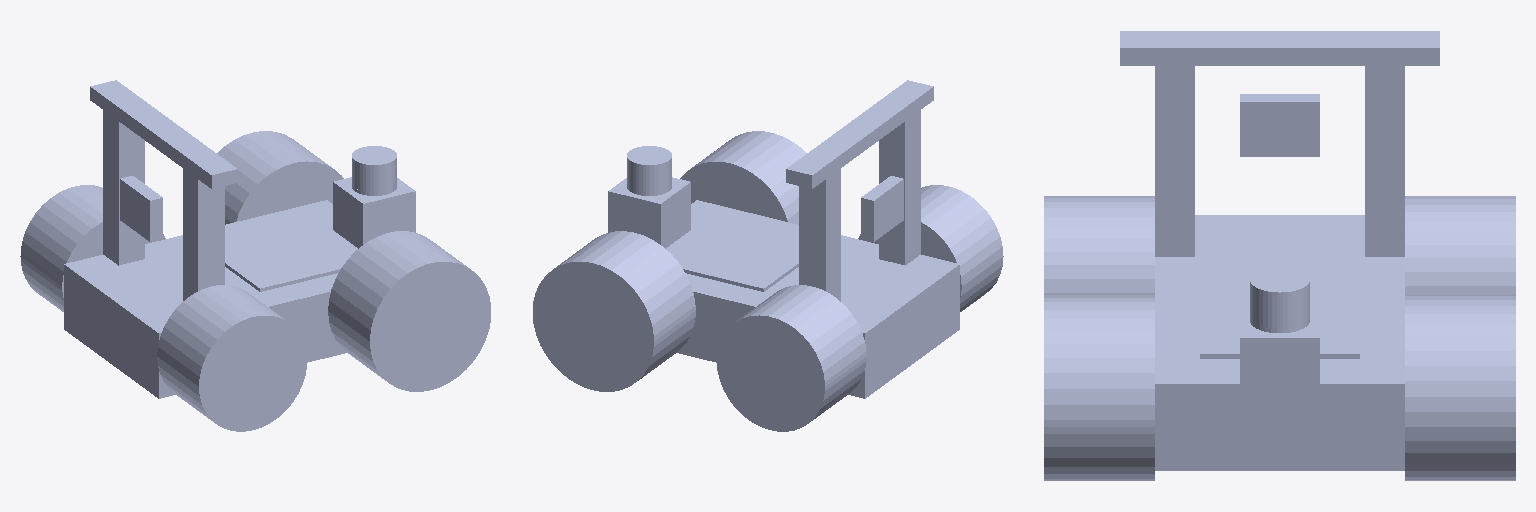
The robot description file, URDF, robot "jr_description":
<robot
  name="jr_description">
  <link
    name="base_link">
    <inertial>
      <origin
        xyz="-0.10028 8.8908E-18 -0.0063661"
        rpy="0 0 0" />
      <mass
        value="2.6045" />
      <inertia
        ixx="0.0083822"
        ixy="2.649E-18"
        ixz="-0.0011858"
        iyy="0.01652"
        iyz="-6.143E-19"
        izz="0.019903" />
    </inertial>
    <visual>
      <origin
        xyz="0 0 0"
        rpy="0 0 0" />
      <geometry>
        <mesh
          filename="package://jr_description/meshes/base_link.STL" />
      </geometry>
      <material
        name="">
        <color
          rgba="0.79216 0.81961 0.93333 1" />
      </material>
    </visual>
    <collision>
      <origin
        xyz="0 0 0"
        rpy="0 0 0" />
      <geometry>
        <mesh
          filename="package://jr_description/meshes/base_link.STL" />
      </geometry>
    </collision>
  </link>
  <link
    name="arm_base">
    <inertial>
      <origin
        xyz="-0.0254 1.43687145515159E-18 -0.0015875"
        rpy="0 0 0" />
      <mass
        value="0.032774128" />
      <inertia
        ixx="2.82202738684791E-05"
        ixy="4.12183567632782E-38"
        ixz="0"
        iyy="2.82202738684791E-05"
        iyz="0"
        izz="5.63854837879466E-05" />
    </inertial>
    <visual>
      <origin
        xyz="0 0 0"
        rpy="0 0 0" />
      <geometry>
        <mesh
          filename="package://jr_description/meshes/arm_base.STL" />
      </geometry>
      <material
        name="">
        <color
          rgba="0.792156862745098 0.819607843137255 0.933333333333333 1" />
      </material>
    </visual>
    <collision>
      <origin
        xyz="0 0 0"
        rpy="0 0 0" />
      <geometry>
        <mesh
          filename="package://jr_description/meshes/arm_base.STL" />
      </geometry>
    </collision>
  </link>
  <joint
    name="base_link_to_arm_base_joint"
    type="fixed">
    <origin
      xyz="-0.03175 0 0.020574"
      rpy="0 -1.5407E-33 1.5232E-16" />
    <parent
      link="base_link" />
    <child
      link="arm_base" />
    <axis
      xyz="0 0 0" />
  </joint>
  <link
    name="kinect_base">
    <inertial>
      <origin
        xyz="0 -2.02645682143E-17 0"
        rpy="0 0 0" />
      <mass
        value="0.0655482560000002" />
      <inertia
        ixx="0.000226422958335974"
        ixy="-5.87174898103748E-21"
        ixz="-9.30344764534043E-22"
        iyy="4.40511592093335E-06"
        iyz="-5.97297429508228E-21"
        izz="0.000229066027888534" />
    </inertial>
    <visual>
      <origin
        xyz="0 0 0"
        rpy="0 0 0" />
      <geometry>
        <mesh
          filename="package://jr_description/meshes/kinect_base.STL" />
      </geometry>
      <material
        name="">
        <color
          rgba="0.792156862745098 0.819607843137255 0.933333333333333 1" />
      </material>
    </visual>
    <collision>
      <origin
        xyz="0 0 0"
        rpy="0 0 0" />
      <geometry>
        <mesh
          filename="package://jr_description/meshes/kinect_base.STL" />
      </geometry>
    </collision>
  </link>
  <joint
    name="base_link_to_kinect_base_joint"
    type="fixed">
    <origin
      xyz="-0.17145 0 0.1571"
      rpy="1.6653E-16 -1.1584E-16 1.0229E-16" />
    <parent
      link="base_link" />
    <child
      link="kinect_base" />
    <axis
      xyz="0 0 0" />
  </joint>
  <link
    name="front_left_wheel">
    <inertial>
      <origin
        xyz="0 0 -1.73472347597681E-18"
        rpy="0 0 0" />
      <mass
        value="0.757089458454383" />
      <inertia
        ixx="0.000960828806967541"
        ixy="-4.65183370141717E-20"
        ixz="-7.52316384526264E-36"
        iyy="0.00130601486354979"
        iyz="2.1696133823104E-36"
        izz="0.000960828806967541" />
    </inertial>
    <visual>
      <origin
        xyz="0 0 0"
        rpy="0 0 0" />
      <geometry>
        <mesh
          filename="package://jr_description/meshes/front_left_wheel.STL" />
      </geometry>
      <material
        name="">
        <color
          rgba="0.792156862745098 0.819607843137255 0.933333333333333 1" />
      </material>
    </visual>
    <collision>
      <origin
        xyz="0 0 0"
        rpy="0 0 0" />
      <geometry>
        <mesh
          filename="package://jr_description/meshes/front_left_wheel.STL" />
      </geometry>
    </collision>
  </link>
  <joint
    name="base_link_to_front_left_wheel_joint"
    type="continuous">
    <origin
      xyz="0 0.1143 0"
      rpy="-1.6185E-33 4.5241E-18 2.4652E-32" />
    <parent
      link="base_link" />
    <child
      link="front_left_wheel" />
    <axis
      xyz="0 1 0" />
  </joint>
  <link
    name="front_right_wheel">
    <inertial>
      <origin
        xyz="0 -1.38777878078145E-17 -1.73472347597681E-18"
        rpy="0 0 0" />
      <mass
        value="0.757089458454383" />
      <inertia
        ixx="0.000960828806967541"
        ixy="-4.38718486817743E-21"
        ixz="-4.56924239365896E-37"
        iyy="0.00130601486354979"
        iyz="8.85585047159997E-22"
        izz="0.000960828806967541" />
    </inertial>
    <visual>
      <origin
        xyz="0 0 0"
        rpy="0 0 0" />
      <geometry>
        <mesh
          filename="package://jr_description/meshes/front_right_wheel.STL" />
      </geometry>
      <material
        name="">
        <color
          rgba="0.792156862745098 0.819607843137255 0.933333333333333 1" />
      </material>
    </visual>
    <collision>
      <origin
        xyz="0 0 0"
        rpy="0 0 0" />
      <geometry>
        <mesh
          filename="package://jr_description/meshes/front_right_wheel.STL" />
      </geometry>
    </collision>
  </link>
  <joint
    name="base_link_to_front_right_wheel_joint"
    type="continuous">
    <origin
      xyz="0 -0.1143 0"
      rpy="-4.79490768851316E-18 -2.41087784164084E-33 -2.91484050545616E-17" />
    <parent
      link="base_link" />
    <child
      link="front_right_wheel" />
    <axis
      xyz="0 1 0" />
  </joint>
  <link
    name="rear_left_wheel">
    <inertial>
      <origin
        xyz="1.3878E-17 -2.7756E-17 0"
        rpy="0 0 0" />
      <mass
        value="0.60224" />
      <inertia
        ixx="0.00065807"
        ixy="-4.1642E-20"
        ixz="-2.4074E-35"
        iyy="0.00082641"
        iyz="-8.8453E-21"
        izz="0.00065807" />
    </inertial>
    <visual>
      <origin
        xyz="0 0 0"
        rpy="0 0 0" />
      <geometry>
        <mesh
          filename="package://jr_description/meshes/rear_left_wheel.STL" />
      </geometry>
      <material
        name="">
        <color
          rgba="0.79216 0.81961 0.93333 1" />
      </material>
    </visual>
    <collision>
      <origin
        xyz="0 0 0"
        rpy="0 0 0" />
      <geometry>
        <mesh
          filename="package://jr_description/meshes/rear_left_wheel.STL" />
      </geometry>
    </collision>
  </link>
  <joint
    name="base_link_to_rear_left_wheel_joint"
    type="continuous">
    <origin
      xyz="-0.17145 0.1143 -0.00323850000000001"
      rpy="-5.25433558435984E-17 -1.07552855510562E-16 0" />
    <parent
      link="base_link" />
    <child
      link="rear_left_wheel" />
    <axis
      xyz="0 1 0" />
  </joint>
  <link
    name="rear_right_wheel">
    <inertial>
      <origin
        xyz="0 2.7756E-17 -1.7347E-18"
        rpy="0 0 0" />
      <mass
        value="0.60224" />
      <inertia
        ixx="0.00065807"
        ixy="-3.0008E-20"
        ixz="-2.4074E-35"
        iyy="0.00082641"
        iyz="-4.7922E-21"
        izz="0.00065807" />
    </inertial>
    <visual>
      <origin
        xyz="0 0 0"
        rpy="0 0 0" />
      <geometry>
        <mesh
          filename="package://jr_description/meshes/rear_right_wheel.STL" />
      </geometry>
      <material
        name="">
        <color
          rgba="0.79216 0.81961 0.93333 1" />
      </material>
    </visual>
    <collision>
      <origin
        xyz="0 0 0"
        rpy="0 0 0" />
      <geometry>
        <mesh
          filename="package://jr_description/meshes/rear_right_wheel.STL" />
      </geometry>
    </collision>
  </link>
  <joint
    name="base_link_to_rear_right_wheel_joint"
    type="continuous">
    <origin
      xyz="-0.17145 -0.1143 -0.00323849999999998"
      rpy="-2.84666251601602E-17 -1.66533453693773E-16 0" />
    <parent
      link="base_link" />
    <child
      link="rear_right_wheel" />
    <axis
      xyz="0 1 0" />
  </joint>
  <link
    name="laser">
    <inertial>
      <origin
        xyz="0 -1.0618E-17 -0.030024"
        rpy="0 0 0" />
      <mass
        value="0.14729" />
      <inertia
        ixx="8.2553E-05"
        ixy="5.2628E-21"
        ixz="-1.2749E-21"
        iyy="8.2553E-05"
        iyz="1.0852E-20"
        izz="5.5249E-05" />
    </inertial>
    <visual>
      <origin
        xyz="0 0 0"
        rpy="0 0 0" />
      <geometry>
        <mesh
          filename="package://jr_description/meshes/laser.STL" />
      </geometry>
      <material
        name="">
        <color
          rgba="0.79216 0.81961 0.93333 1" />
      </material>
    </visual>
    <collision>
      <origin
        xyz="0 0 0"
        rpy="0 0 0" />
      <geometry>
        <mesh
          filename="package://jr_description/meshes/laser.STL" />
      </geometry>
    </collision>
  </link>
  <joint
    name="base_link_to_laser_joint"
    type="fixed">
    <origin
      xyz="0.03175 0 0.077724"
      rpy="0 -1.5407E-33 1.5232E-16" />
    <parent
      link="base_link" />
    <child
      link="laser" />
    <axis
      xyz="0 0 0" />
  </joint>
  <link
    name="imu">
    <inertial>
      <origin
        xyz="-1.3878E-17 -1.2982E-18 -1.3878E-17"
        rpy="0 0 0" />
      <mass
        value="0.024581" />
      <inertia
        ixx="8.2596E-06"
        ixy="8.4979E-23"
        ixz="3.6549E-23"
        iyy="3.3038E-06"
        iyz="-6.8956E-22"
        izz="5.6165E-06" />
    </inertial>
    <visual>
      <origin
        xyz="0 0 0"
        rpy="0 0 0" />
      <geometry>
        <mesh
          filename="package://jr_description/meshes/imu.STL" />
      </geometry>
      <material
        name="">
        <color
          rgba="0.79216 0.81961 0.93333 1" />
      </material>
    </visual>
    <collision>
      <origin
        xyz="0 0 0"
        rpy="0 0 0" />
      <geometry>
        <mesh
          filename="package://jr_description/meshes/imu.STL" />
      </geometry>
    </collision>
  </link>
  <joint
    name="base_link_to_imu_joint"
    type="fixed">
    <origin
      xyz="-0.19304 0 0.093599"
      rpy="0 -1.5407E-33 1.5232E-16" />
    <parent
      link="base_link" />
    <child
      link="imu" />
    <axis
      xyz="0 0 0" />
  </joint>
</robot>

--- Render facts (derived) ---
Views: 3 orthographic renders of the robot side by side, from view 1: azimuth 30°, elevation 25°; view 2: azimuth 150°, elevation 25°; view 3: azimuth 270°, elevation 25°.
Robot: jr_description — 9 links, 8 joints (4 continuous, 4 fixed); root link base_link; default pose: all joints at 0.
Visible links, largest first — view 1: base_link, front_right_wheel, rear_right_wheel, front_left_wheel, rear_left_wheel, arm_base, laser, kinect_base, imu; view 2: base_link, front_left_wheel, rear_left_wheel, front_right_wheel, rear_right_wheel, arm_base, laser, kinect_base, imu; view 3: base_link, front_left_wheel, front_right_wheel, kinect_base, rear_left_wheel, rear_right_wheel, laser, arm_base, imu.
Boxes of the visible links, left/top/right/bottom form: base_link: left=64, top=110, right=357, bottom=398; front_right_wheel: left=328, top=231, right=490, bottom=391; rear_right_wheel: left=157, top=285, right=306, bottom=431; front_left_wheel: left=217, top=131, right=343, bottom=224; rear_left_wheel: left=20, top=185, right=165, bottom=311; arm_base: left=225, top=219, right=351, bottom=291; laser: left=333, top=146, right=415, bottom=248; kinect_base: left=90, top=80, right=237, bottom=188; imu: left=120, top=176, right=162, bottom=241; base_link: left=666, top=110, right=959, bottom=398; front_left_wheel: left=533, top=231, right=695, bottom=391; rear_left_wheel: left=717, top=285, right=866, bottom=431; front_right_wheel: left=680, top=131, right=806, bottom=224; rear_right_wheel: left=858, top=185, right=1003, bottom=311; arm_base: left=672, top=219, right=798, bottom=291; laser: left=608, top=146, right=690, bottom=248; kinect_base: left=786, top=80, right=933, bottom=188; imu: left=861, top=176, right=903, bottom=241; base_link: left=1155, top=66, right=1404, bottom=470; front_left_wheel: left=1405, top=295, right=1515, bottom=480; front_right_wheel: left=1044, top=295, right=1154, bottom=480; kinect_base: left=1120, top=31, right=1439, bottom=65; rear_left_wheel: left=1405, top=196, right=1515, bottom=294; rear_right_wheel: left=1044, top=196, right=1154, bottom=294; laser: left=1240, top=267, right=1319, bottom=400; arm_base: left=1200, top=287, right=1359, bottom=358; imu: left=1240, top=94, right=1319, bottom=156.
Bounding box of the posed robot: 0.2826 × 0.2984 × 0.2221 m (x, y, z).
9 mesh visuals loaded from 9 distinct referenced files (9 binary STL).
